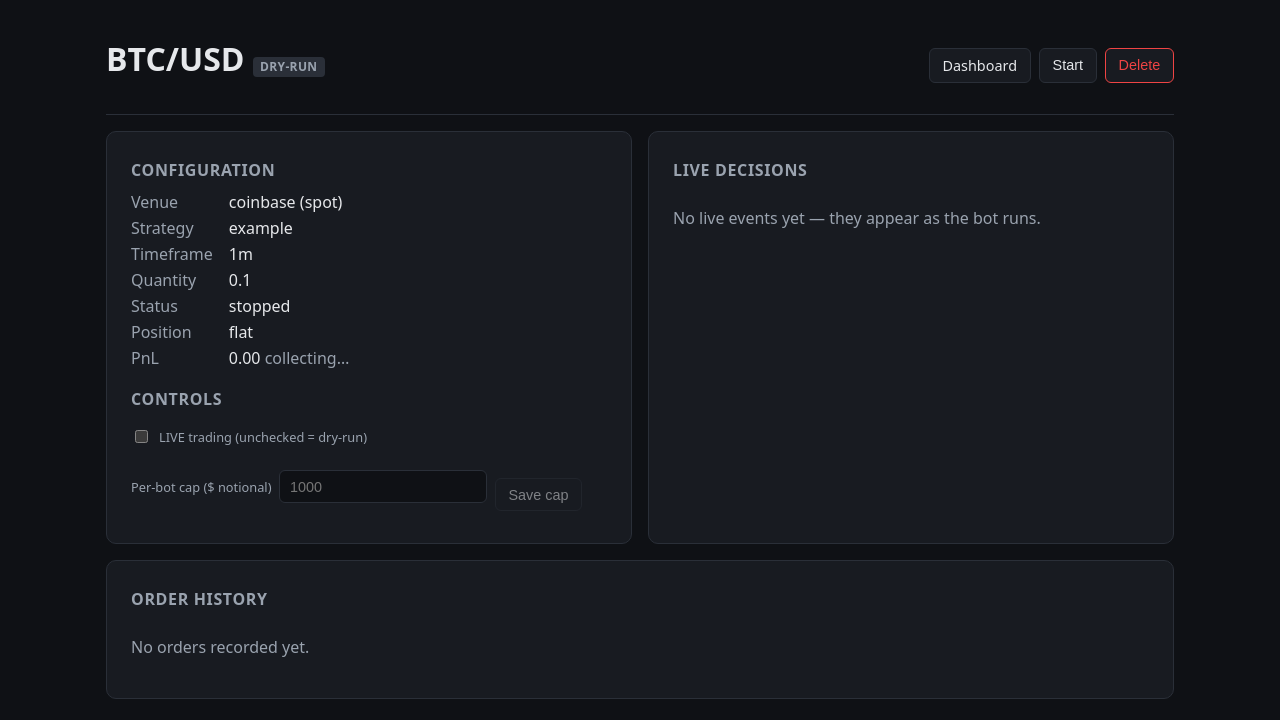
BotDetail delete (#163) › surfaces a refusal from the server
The image size is (1280, 720).
Check: the text "stopped" is shown, box [229,295,290,317]
Step 1. Click the button "Delete" → click(1139, 65), box [1105,48,1174,83]
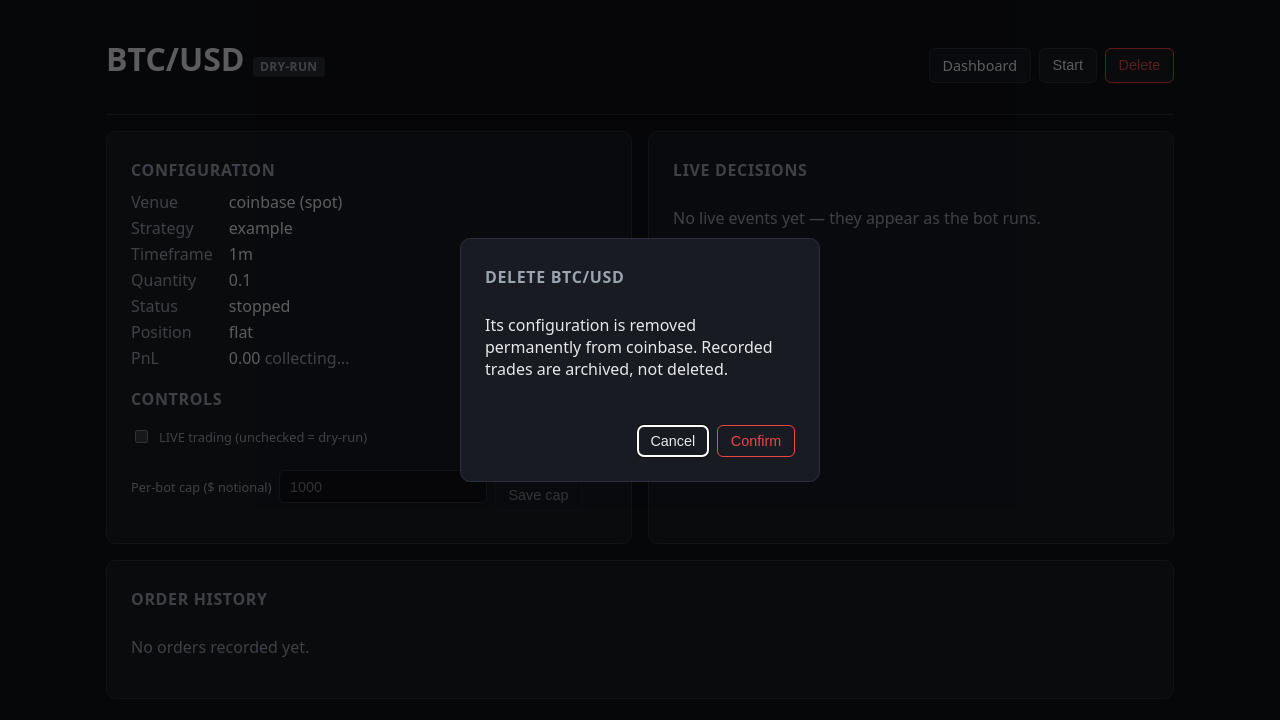
Step 2. Click the button "Confirm" → click(756, 441), box [717,425,795,457]
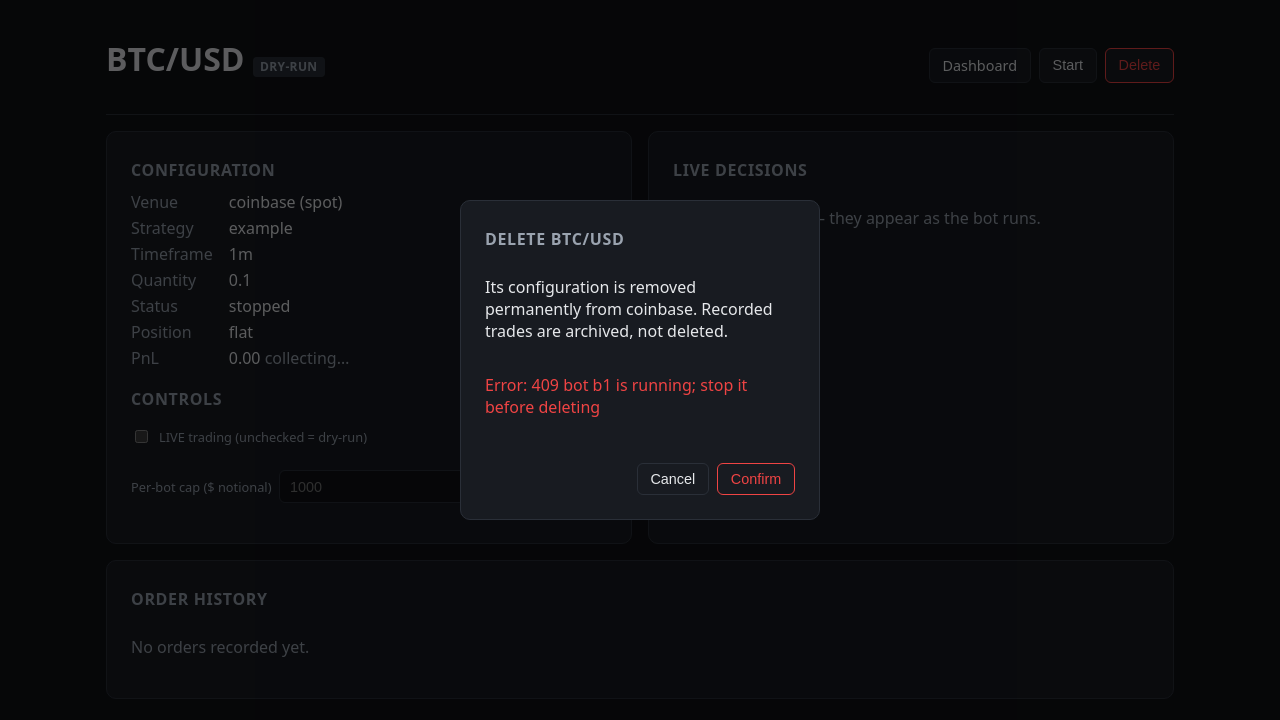
Check: the message shows "stop it before deleting", box [485,374,747,418]
